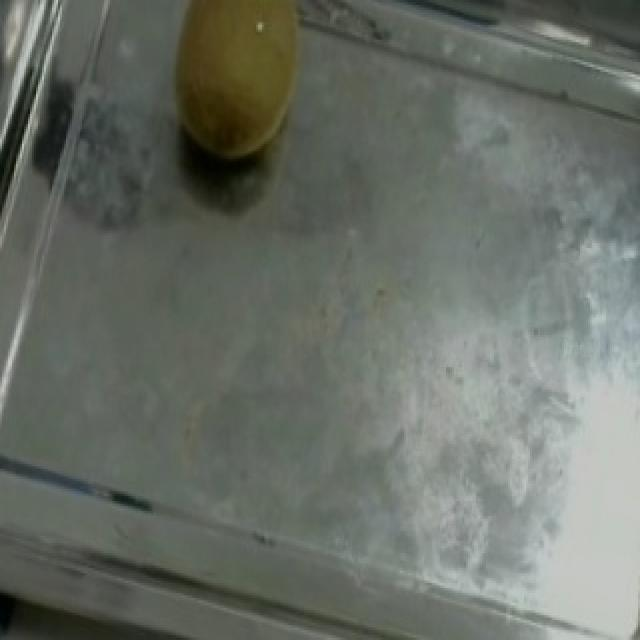Fruit: (136, 0, 338, 191)
